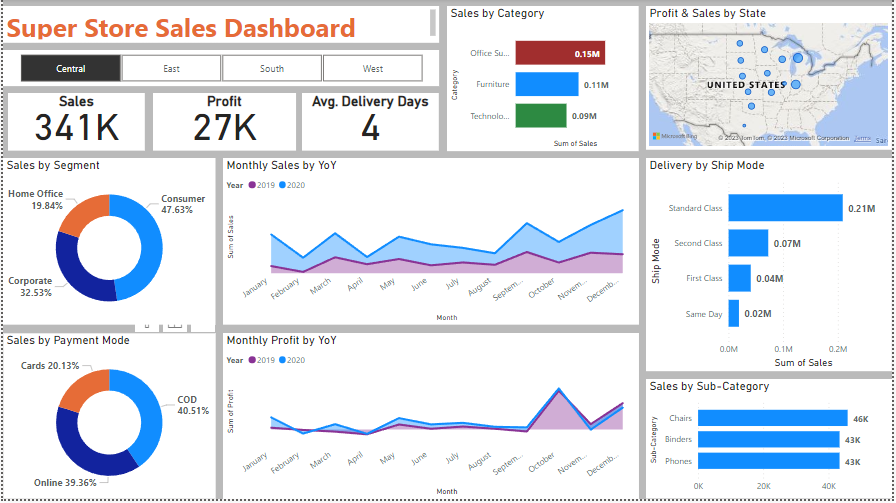

The dashboard page shown, as its layout file describes it:
{"tool":"powerbi","page":{"name":"Page 1","canvas":[1280,720],"ordinal":0},"visuals":[{"type":"clusteredBarChart","title":"Sales by Category","fields":{"Category":["Sheet1.Category"],"Y":["Sum(Sheet1.Sales)"]},"box":[639.4,10.1,276.5,208.8],"z":0},{"type":"clusteredBarChart","title":"Sales by Sub-Category","fields":{"Category":["Sheet1.Sub-Category"],"Y":["Sum(Sheet1.Sales)"]},"box":[925.5,547.5,355,172.5],"z":1000},{"type":"clusteredBarChart","title":"Delivery by Ship Mode","fields":{"Category":["Sheet1.Ship Mode"],"Y":["Sum(Sheet1.Sales)"]},"box":[925.9,229,354.2,306.7],"z":2000},{"type":"stackedAreaChart","title":"Monthly Sales by YoY","fields":{"Category":["Sheet1.Order Date.Variation.Date Hierarchy.Month"],"Y":["Sum(Sheet1.Sales)"],"Series":["Sheet1.Order Date.Variation.Date Hierarchy.Year"]},"box":[316.2,228.5,599.3,240],"z":3000},{"type":"stackedAreaChart","title":"Monthly Profit by YoY","fields":{"Category":["Sheet1.Order Date.Variation.Date Hierarchy.Month"],"Series":["Sheet1.Order Date.Variation.Date Hierarchy.Year"],"Y":["Sum(Sheet1.Profit)"]},"box":[316.2,481.4,599.3,238.6],"z":4000},{"type":"donutChart","title":"Sales by Payment Mode","fields":{"Category":["Sheet1.Payment Mode"],"Y":["Sum(Sheet1.Sales)"]},"box":[0,481.4,306.1,238.6],"z":5000},{"type":"donutChart","title":"Sales by Segment","fields":{"Category":["Sheet1.Segment"],"Y":["Sum(Sheet1.Sales)"]},"box":[0,228.5,306.1,240],"z":6000},{"type":"textbox","box":[0,10.1,627.8,53.3],"z":7000},{"type":"slicer","fields":{"Values":["Sheet1.Region"]},"box":[0,73.3,628,51.7],"z":8000},{"type":"card","title":"Sales","fields":{"Values":["Sum(Sheet1.Sales)"]},"box":[7.2,135.1,196.9,83.4],"z":9000},{"type":"card","title":"Profit","fields":{"Values":["Sum(Sheet1.Profit)"]},"box":[215.6,135.1,205.5,83.4],"z":10000},{"type":"card","title":"Avg. Delivery Days","fields":{"Values":["Avg(Sheet1.ADT)"]},"box":[431.1,135.1,196.9,83.4],"z":11000},{"type":"map","title":"Profit & Sales by State","fields":{"Size":["Sum(Sheet1.Profit)"],"Category":["Sheet1.State"]},"box":[925.9,10.1,354.2,207.4],"z":11001}]}

Visuals, with their boxes in screenshot pixels (x1, y1, x2, y2), scaled from the page's 1280x720 canvas onto the 896x503 screenshot:
"Sales by Category" clusteredBarChart: region(448, 7, 641, 153)
"Sales by Sub-Category" clusteredBarChart: region(648, 382, 895, 502)
"Delivery by Ship Mode" clusteredBarChart: region(648, 160, 895, 374)
"Monthly Sales by YoY" stackedAreaChart: region(221, 160, 641, 327)
"Monthly Profit by YoY" stackedAreaChart: region(221, 336, 641, 502)
"Sales by Payment Mode" donutChart: region(0, 336, 214, 502)
"Sales by Segment" donutChart: region(0, 160, 214, 327)
textbox: region(0, 7, 439, 44)
slicer - Sheet1.Region: region(0, 51, 440, 87)
"Sales" card: region(5, 94, 143, 153)
"Profit" card: region(151, 94, 295, 153)
"Avg. Delivery Days" card: region(302, 94, 440, 153)
"Profit & Sales by State" map: region(648, 7, 895, 152)
